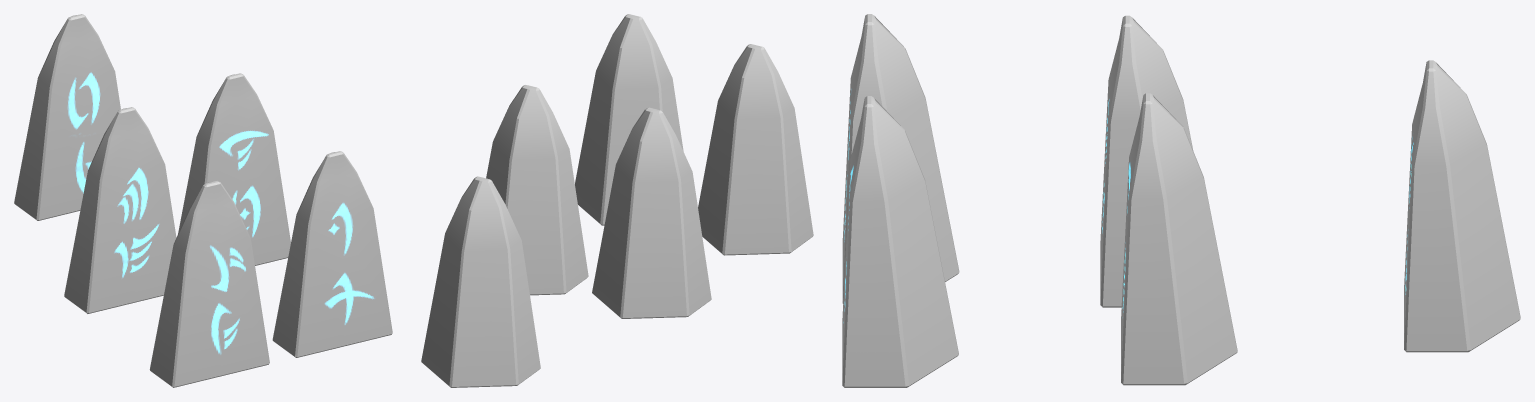
The model's file is Runestones.fbx.
3 renders of one model, left to right at view 1: azimuth 30°, elevation 25°; view 2: azimuth 150°, elevation 25°; view 3: azimuth 270°, elevation 25°, orthographic. The views are drawn at different scales.
Visible parts, largest first — view 1: Runestone A, Runestone B, Runestone C, Runestone E, Runestone D; view 2: Runestone E, Runestone C, Runestone A, Runestone D, Runestone B; view 3: Runestone E, Runestone D, Runestone B, Runestone C, Runestone A.
Part boxes in pixels (x1=…): Runestone A: x1=149, y1=181, x2=269, y2=387; Runestone B: x1=272, y1=151, x2=392, y2=357; Runestone C: x1=64, y1=107, x2=176, y2=313; Runestone E: x1=14, y1=14, x2=120, y2=220; Runestone D: x1=178, y1=73, x2=290, y2=265; Runestone E: x1=421, y1=176, x2=540, y2=387; Runestone C: x1=592, y1=107, x2=711, y2=318; Runestone A: x1=698, y1=44, x2=813, y2=255; Runestone D: x1=486, y1=85, x2=588, y2=295; Runestone B: x1=575, y1=14, x2=683, y2=225; Runestone E: x1=1404, y1=60, x2=1520, y2=352; Runestone D: x1=1121, y1=93, x2=1237, y2=385; Runestone B: x1=842, y1=96, x2=958, y2=387; Runestone C: x1=1100, y1=15, x2=1193, y2=307; Runestone A: x1=842, y1=14, x2=959, y2=303.
Size of the model in its own units: 259 by 212 by 500.
